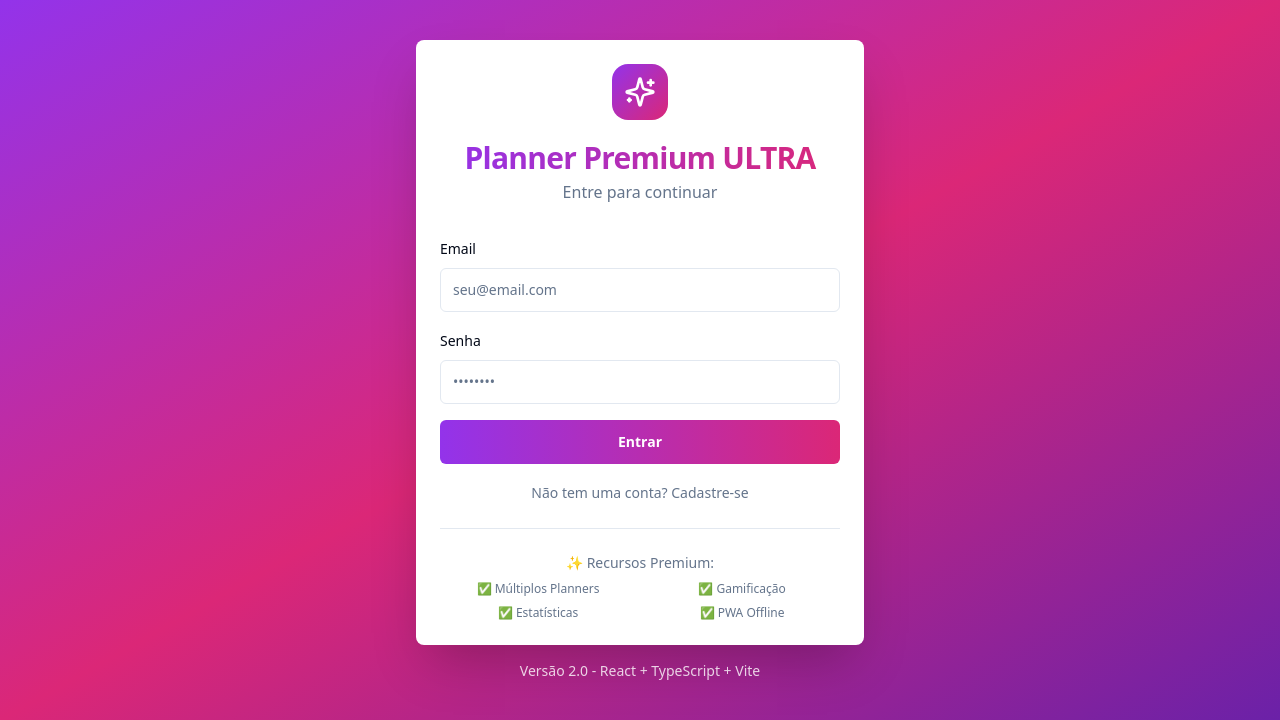
Test: AuthPage › deve alternar entre login e registro
Check: the text "Entre para continuar" is shown, box [563, 180, 717, 202]
# Clica no link para alternar
Click the button "Não tem uma conta? Cadastre-se" at (640, 492), box [531, 482, 749, 502]
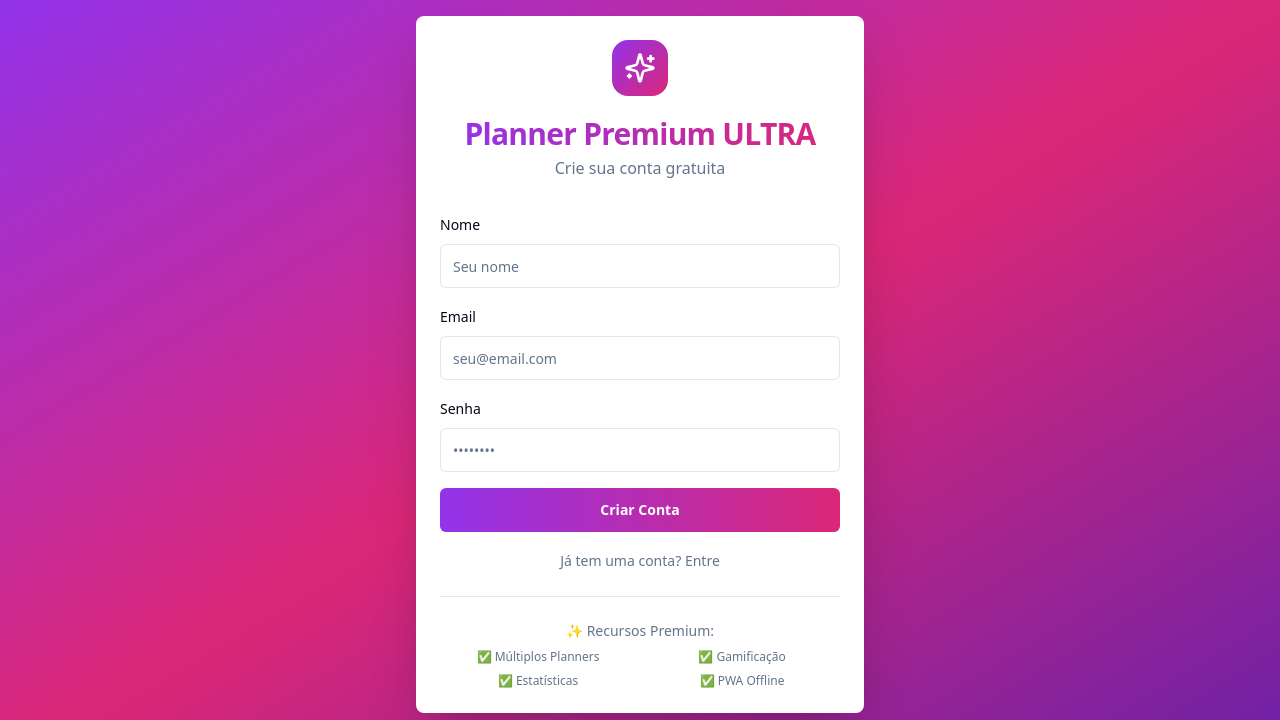
Check: the text "Crie sua conta gratuita" is shown, box [555, 157, 725, 179]
